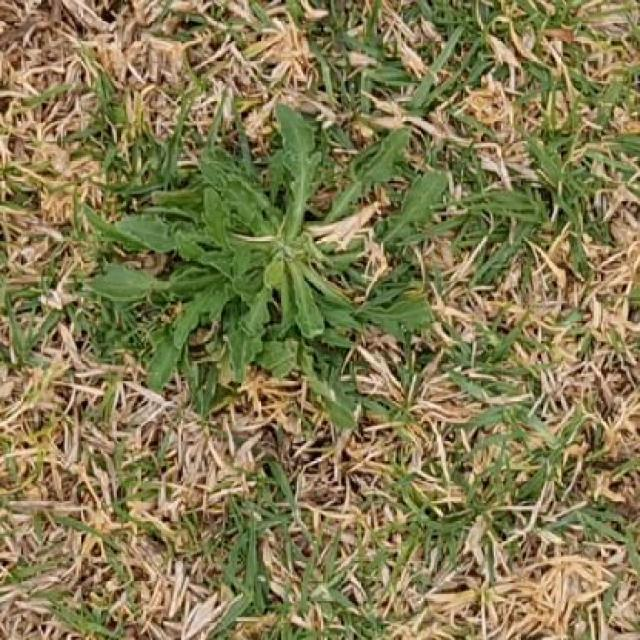weed: (94, 106, 432, 426), (326, 129, 411, 223), (378, 172, 446, 246)
